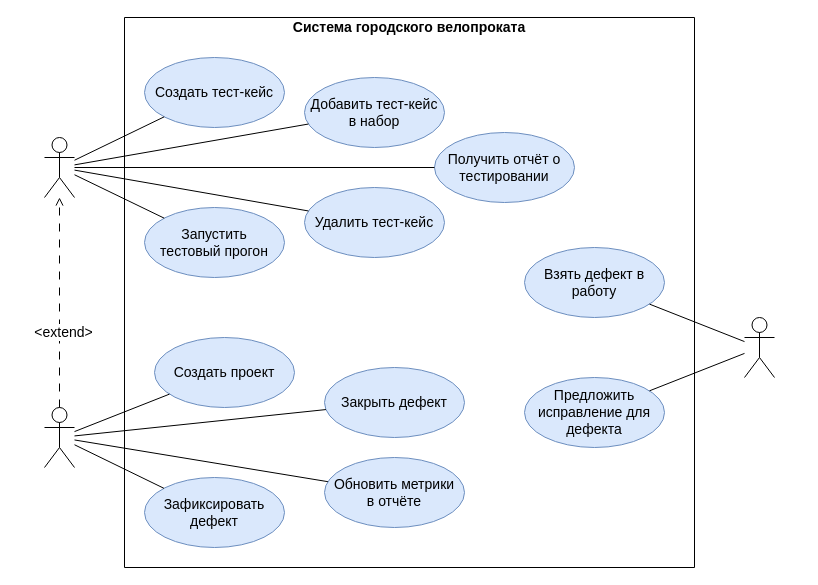
Image size: 818x585. Some labels were removed from this diagram. The box of each missing label's shape, as (x1, y1, x2, y2) in pixels:
QA-лид: (44, 406, 74, 468)
Разработчик: (744, 316, 774, 378)
Тестировщик: (44, 136, 74, 198)
